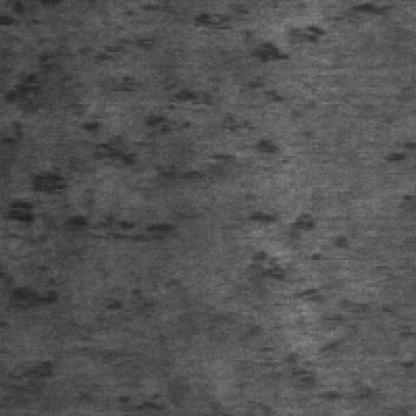rolled-in_scale: (0, 61, 231, 250), (189, 0, 387, 158), (237, 195, 372, 408)
